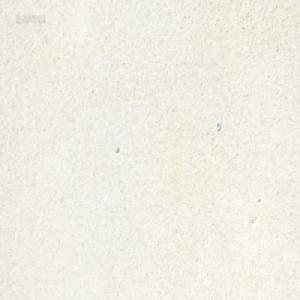Washer: (215, 121, 221, 131)
